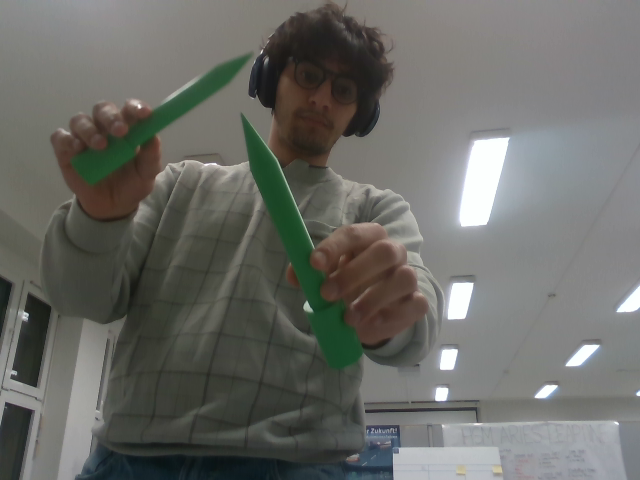Probe: (235, 106, 367, 370), (67, 46, 259, 187)
